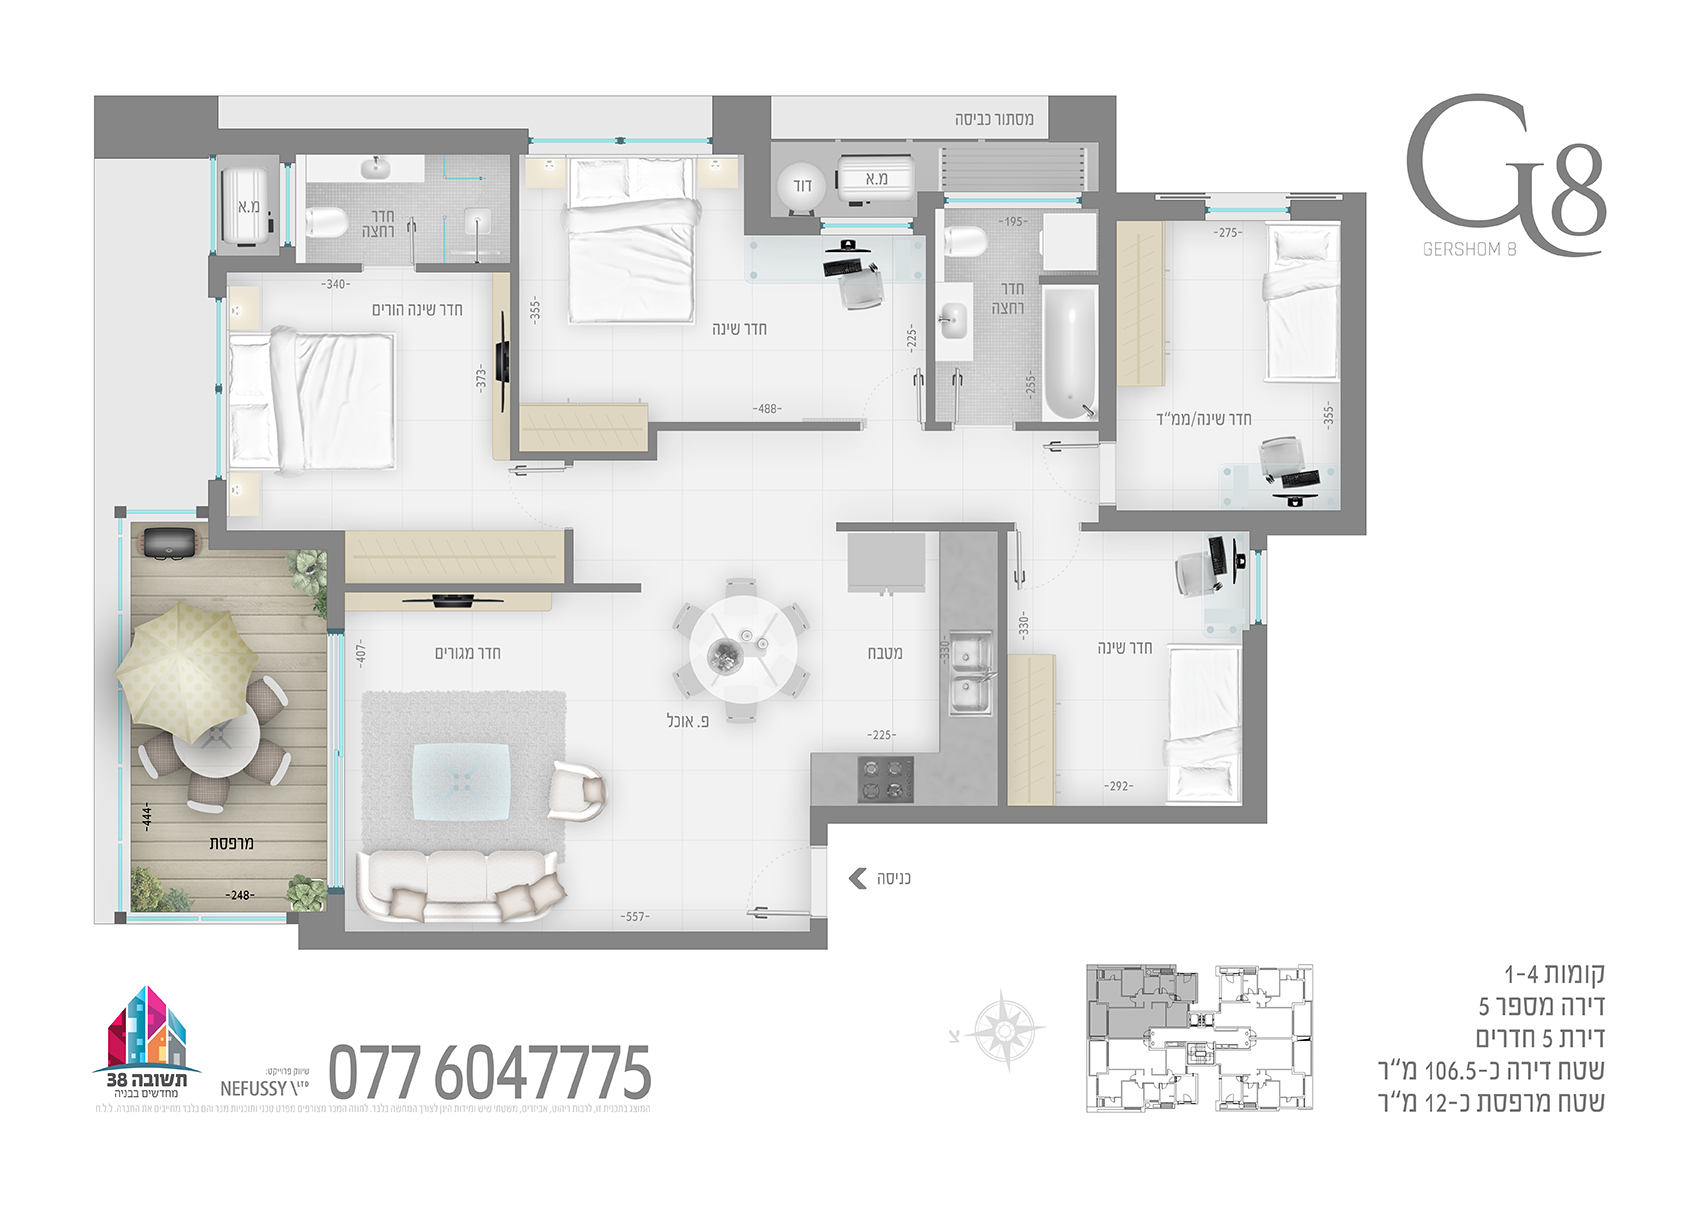wall: (300, 931, 827, 948), (1340, 219, 1367, 512), (218, 128, 528, 152), (810, 806, 1267, 822), (1117, 509, 1367, 529)
